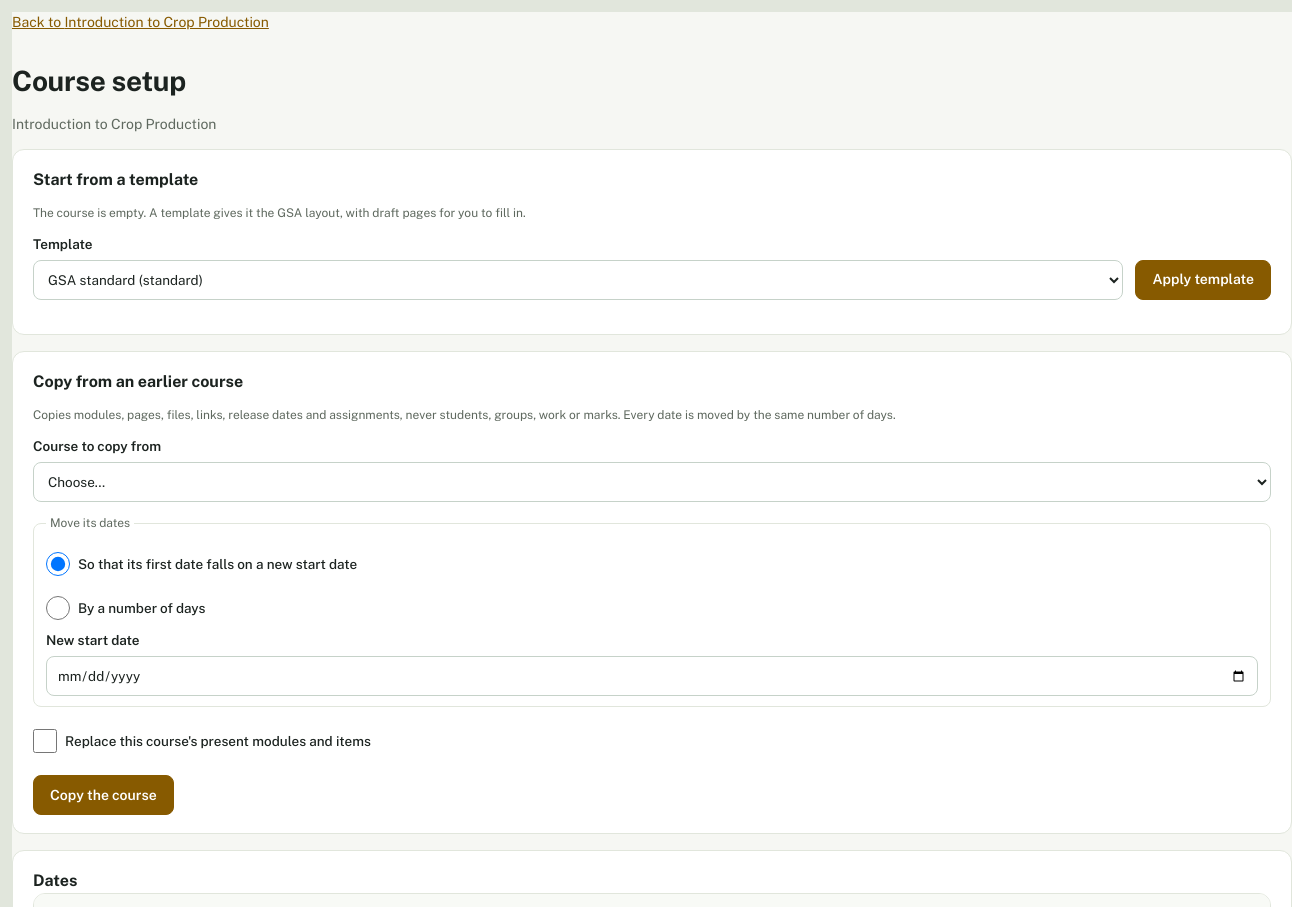
Test: course setup for teaching staff (items 2.17, 2.18 and 2.20) › copies by a number of days, and shows a refusal
This screenshot has width=1292, height=907.
Select "Soils and Plant Nutrition (2025-26) (AGR102-2025-26-S1-MRP)" in the dropdown labelled "Course to copy from" at [652, 482], box [33,462,1271,502]
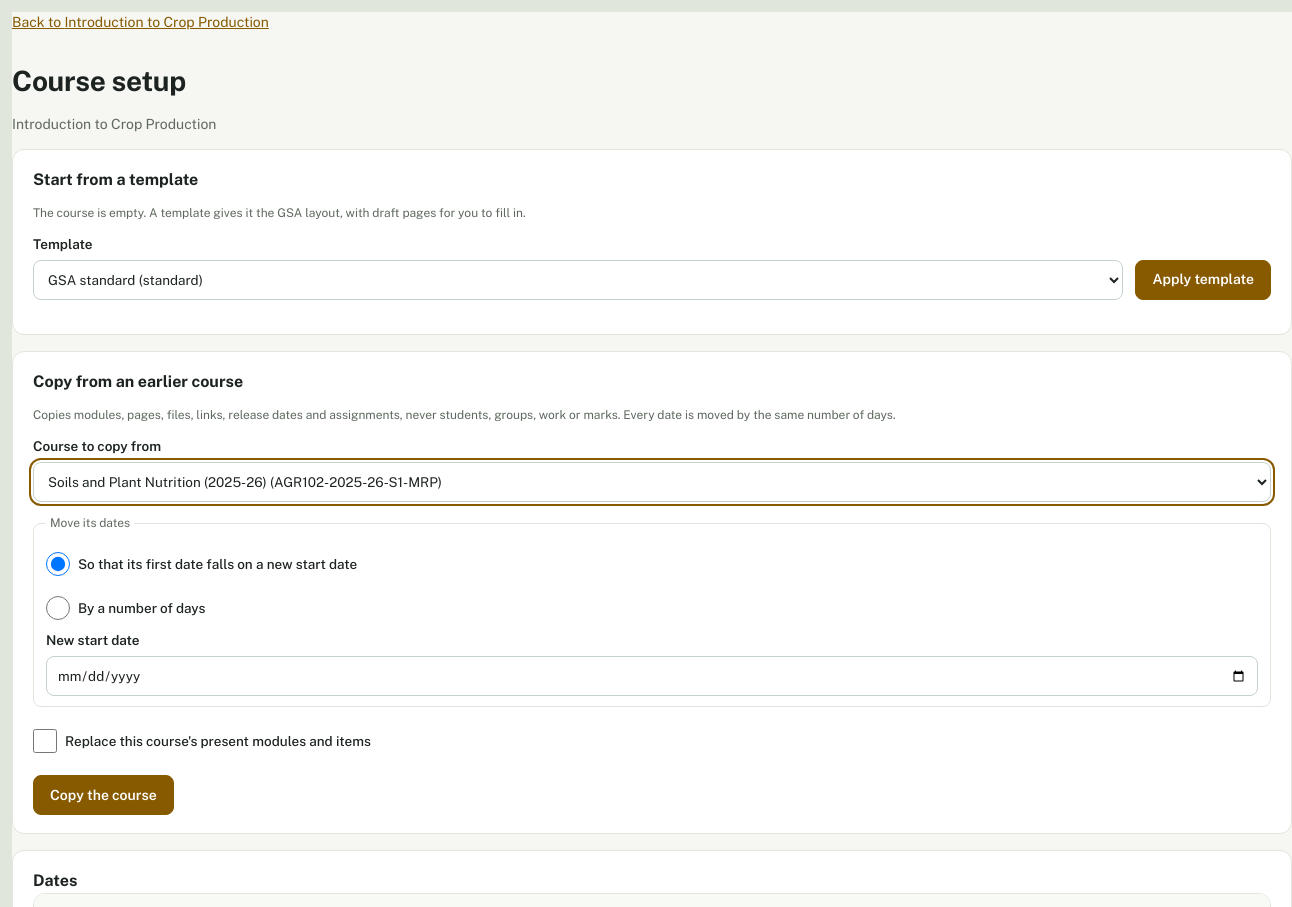
Click the radio button labelled "By a number of days" at [58, 608], box [46,596,70,620]
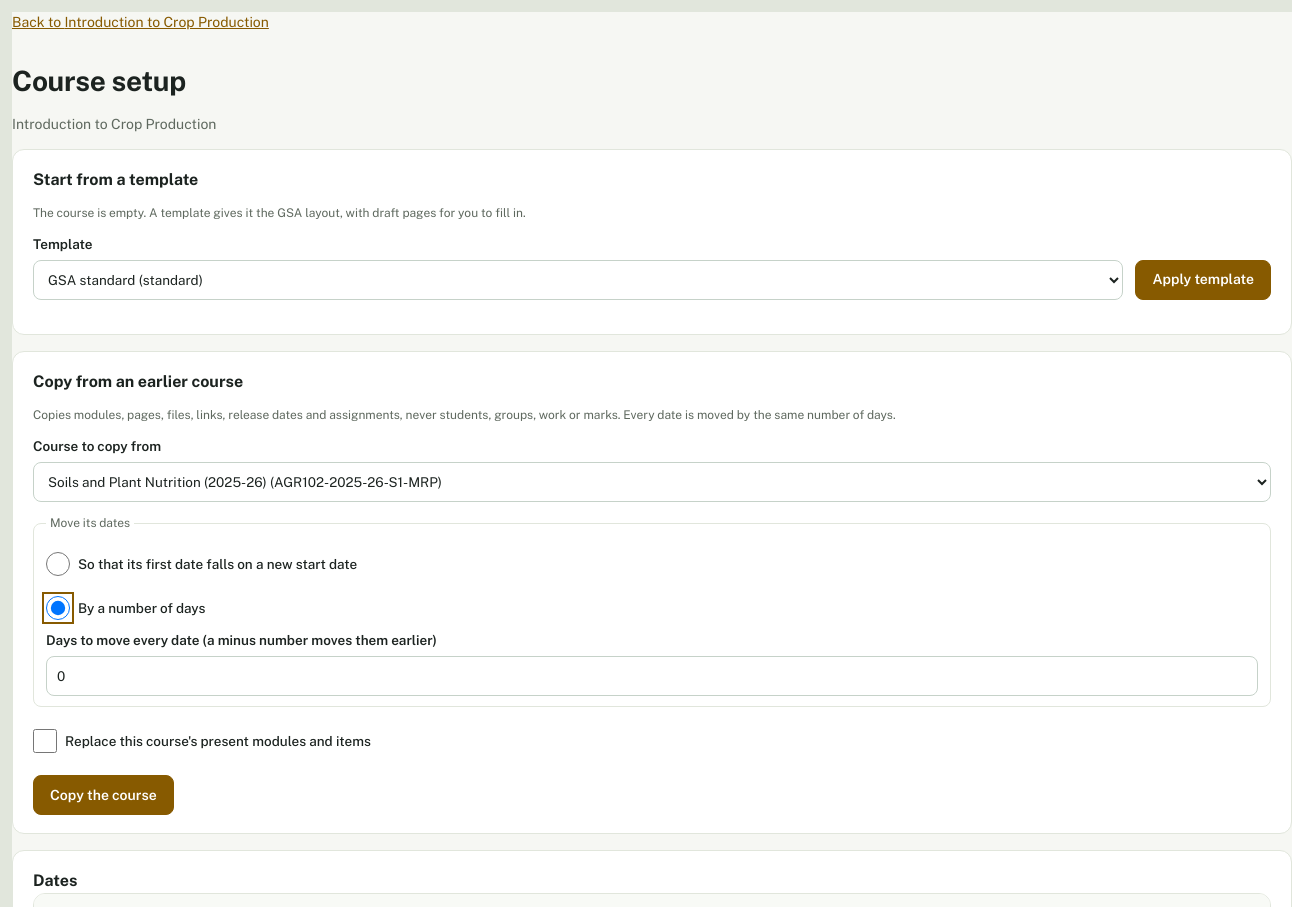
Replace the text in the number field labelled "Days to move every date (a minus number moves them earlier)" with "-7" at [652, 676], box [46,656,1258,696]
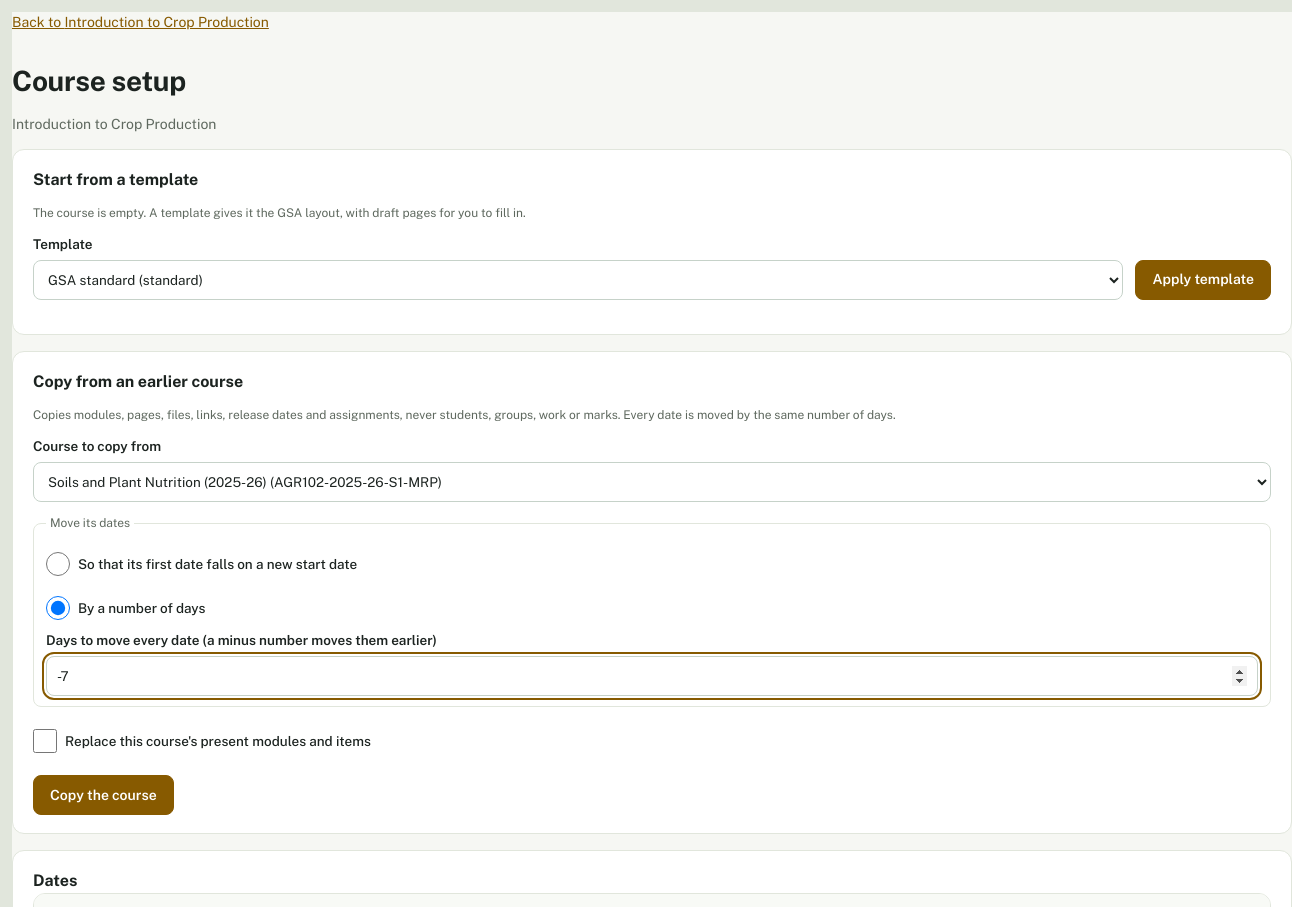
Click the button "Copy the course" at [103, 795], box [33,775,174,815]
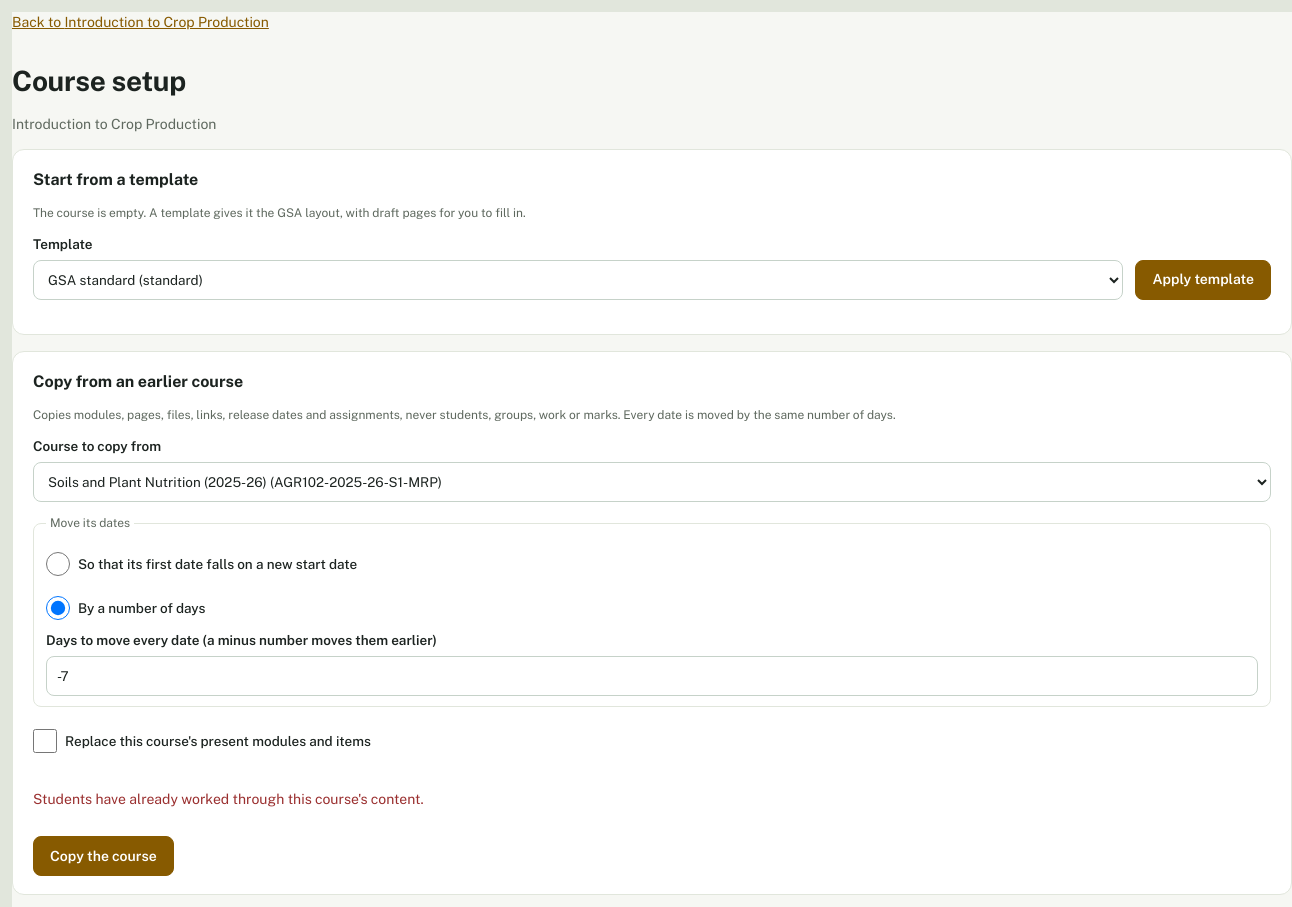
Expected: the message shows "Students have already worked through", [33,791,424,807]
